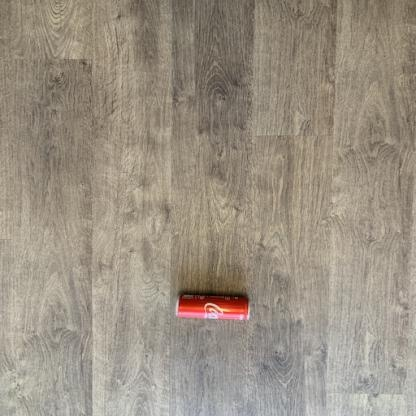trash: (176, 294, 248, 319)
